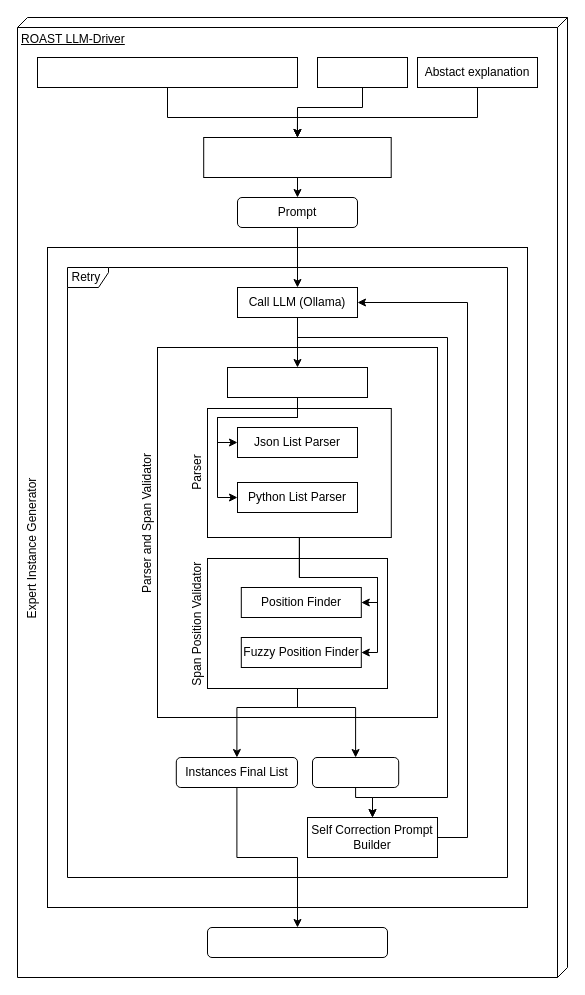
The diagram is 585 pixels wide and 995 high, and some of its shapes have lost their labels. Here are the shapes that lost their labels. From the top down, the centre of each, then its label:
(167,72): Text Cleaner (DataProcessor) no lower-casing
(362,72): Abstact Target
(297,157): Prompt Builder with Few Shots
(297,382): List Extractor from text
(355,772): Error
(297,942): Final List of instances
